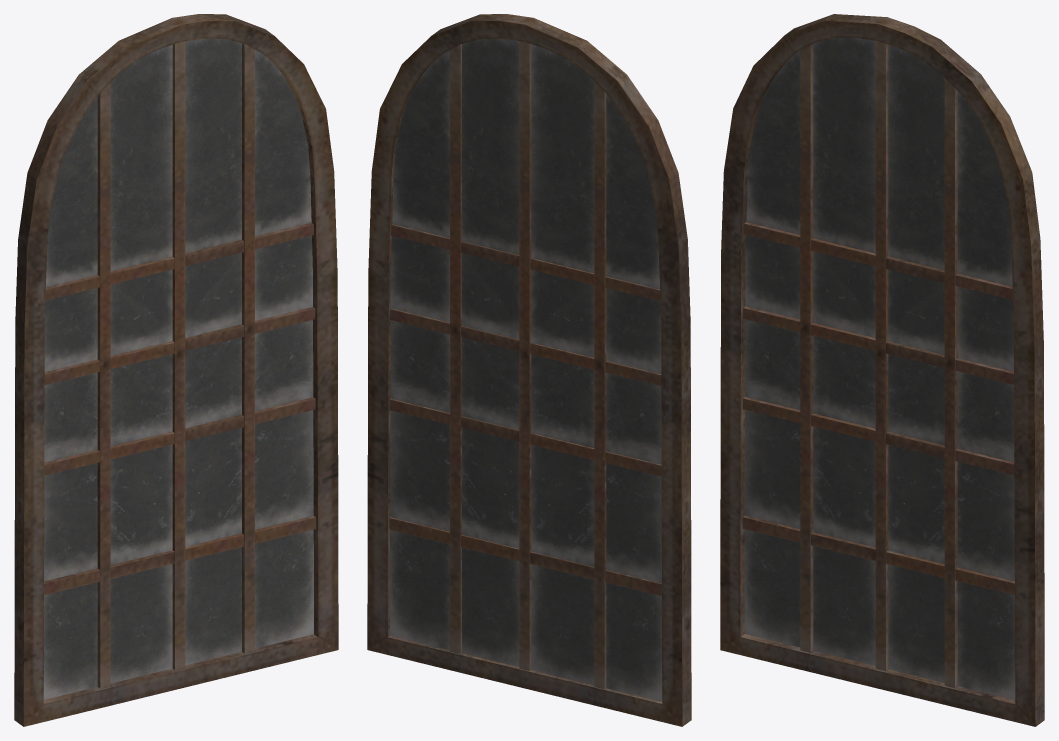
The model's file is ZombieWindow1.fbx.
The picture shows the model from 3 angles, left to right: view 1: azimuth 30°, elevation 25°; view 2: azimuth 150°, elevation 25°; view 3: azimuth 330°, elevation 25°; orthographic projection.
Parts seen in each view (by area): view 1: LOD_1_Group_0_Sub_2__sm40_046_ZombieWindow01A_B_Mat, LOD_1_Group_0_Sub_1__sm40_046_ZombieWindow01A_A_Mat; view 2: LOD_1_Group_0_Sub_2__sm40_046_ZombieWindow01A_B_Mat, LOD_1_Group_0_Sub_1__sm40_046_ZombieWindow01A_A_Mat; view 3: LOD_1_Group_0_Sub_2__sm40_046_ZombieWindow01A_B_Mat, LOD_1_Group_0_Sub_1__sm40_046_ZombieWindow01A_A_Mat.
Part boxes in pixels (bbox=[...]): LOD_1_Group_0_Sub_2__sm40_046_ZombieWindow01A_B_Mat: bbox=[43, 38, 313, 699]; LOD_1_Group_0_Sub_1__sm40_046_ZombieWindow01A_A_Mat: bbox=[14, 14, 338, 726]; LOD_1_Group_0_Sub_2__sm40_046_ZombieWindow01A_B_Mat: bbox=[389, 38, 662, 701]; LOD_1_Group_0_Sub_1__sm40_046_ZombieWindow01A_A_Mat: bbox=[367, 14, 691, 726]; LOD_1_Group_0_Sub_2__sm40_046_ZombieWindow01A_B_Mat: bbox=[744, 37, 1015, 699]; LOD_1_Group_0_Sub_1__sm40_046_ZombieWindow01A_A_Mat: bbox=[720, 14, 1044, 726].
Size of the model in its own units: 0.8371 by 1.69 by 0.0431.
